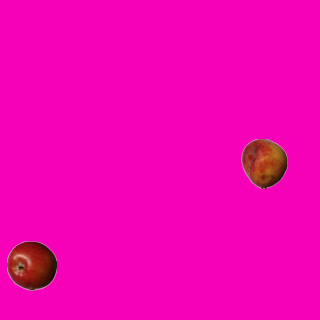Apple Braeburn: (6, 240, 56, 290)
Peach: (239, 138, 289, 188)
